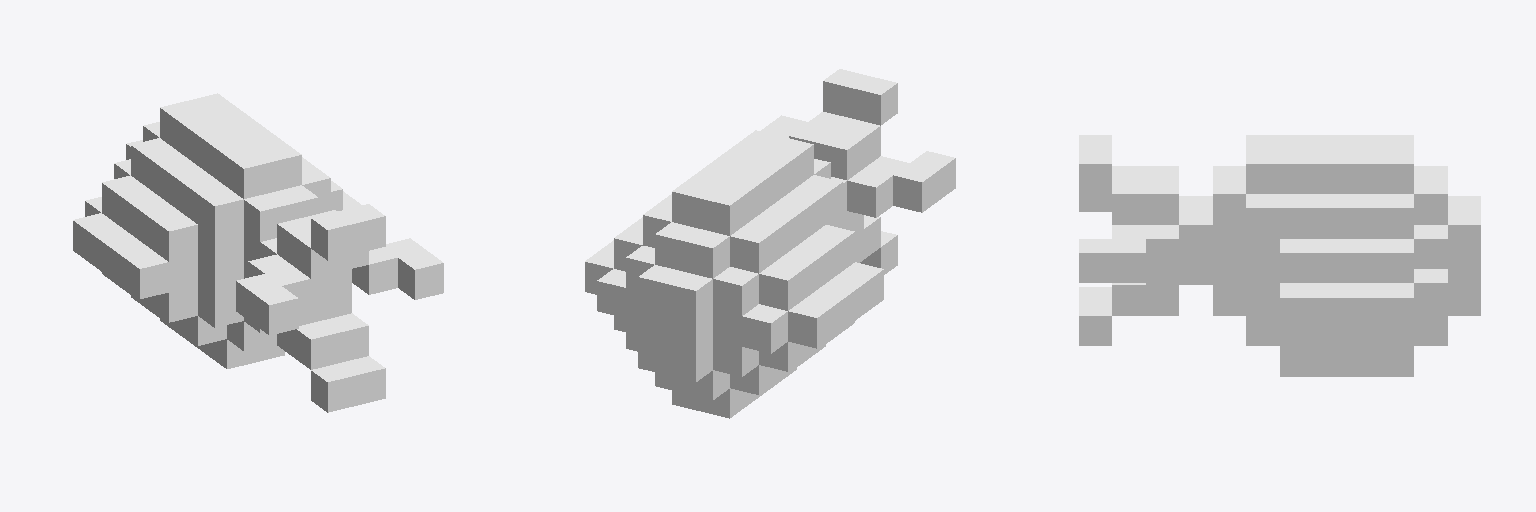
The model's file is ogieeen_amunition.obj.
3 renders of one model, left to right at view 1: azimuth 30°, elevation 25°; view 2: azimuth 150°, elevation 25°; view 3: azimuth 270°, elevation 25°, orthographic.
Parts seen in each view (by area): view 1: object 1; view 2: object 1; view 3: object 1.
Boxes of the visible parts, box(x1,y1,x2,y2) form: object 1: box(73, 93, 443, 412); object 1: box(585, 69, 955, 418); object 1: box(1079, 135, 1480, 376).
Size of the model in its own units: 0.8 by 0.7 by 1.2.